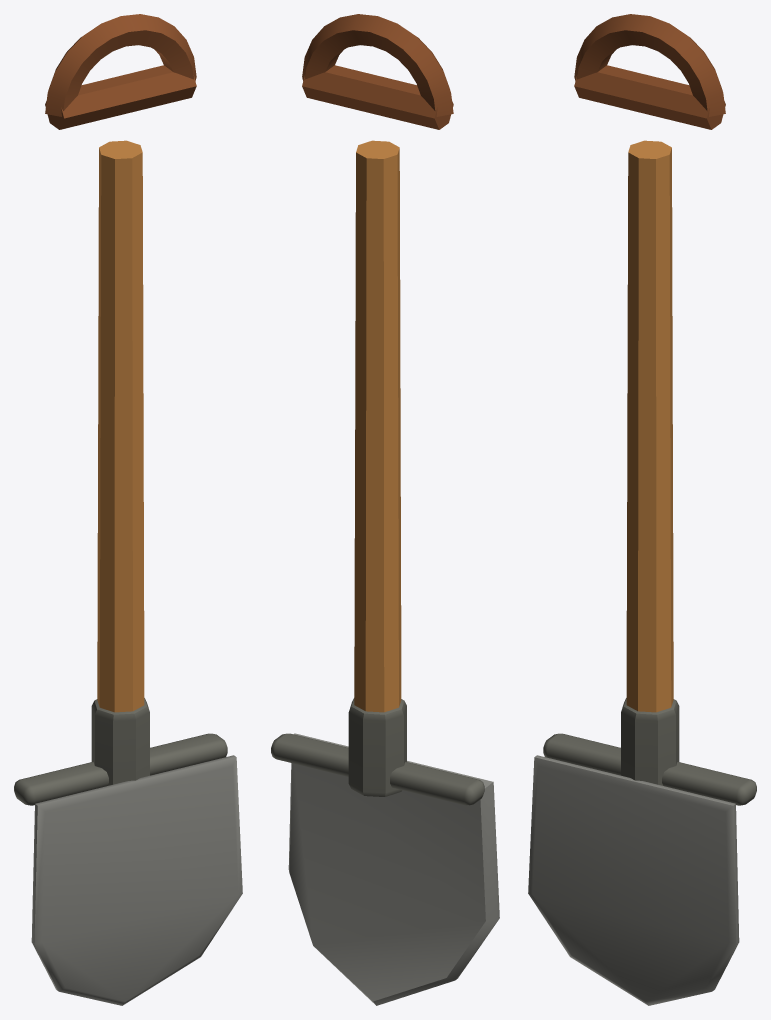
Rendered from StoneShovel.fbx.
3 renders of one model, left to right at view 1: azimuth 30°, elevation 25°; view 2: azimuth 150°, elevation 25°; view 3: azimuth 330°, elevation 25°, orthographic.
Parts seen in each view (by area): view 1: StoneShovel; view 2: StoneShovel; view 3: StoneShovel.
Part boxes in pixels (<box>): StoneShovel: <box>14,14,242,1005</box>; StoneShovel: <box>271,14,499,1005</box>; StoneShovel: <box>528,14,756,1005</box>.
Bounding box in the file's own units: 0.88 × 3.99 × 0.2516.
1 material, 1 textured.
